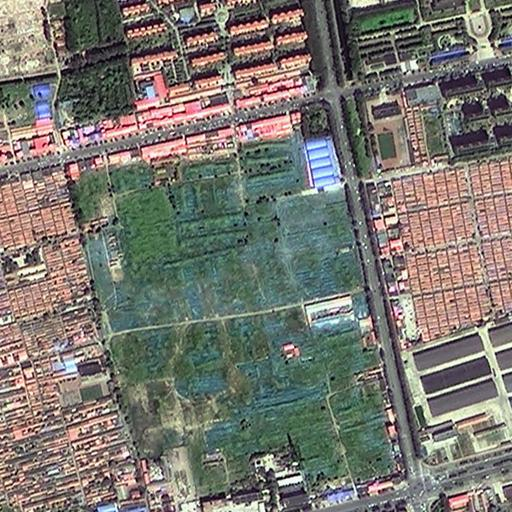school: (362, 80, 413, 176), (55, 376, 121, 408)
